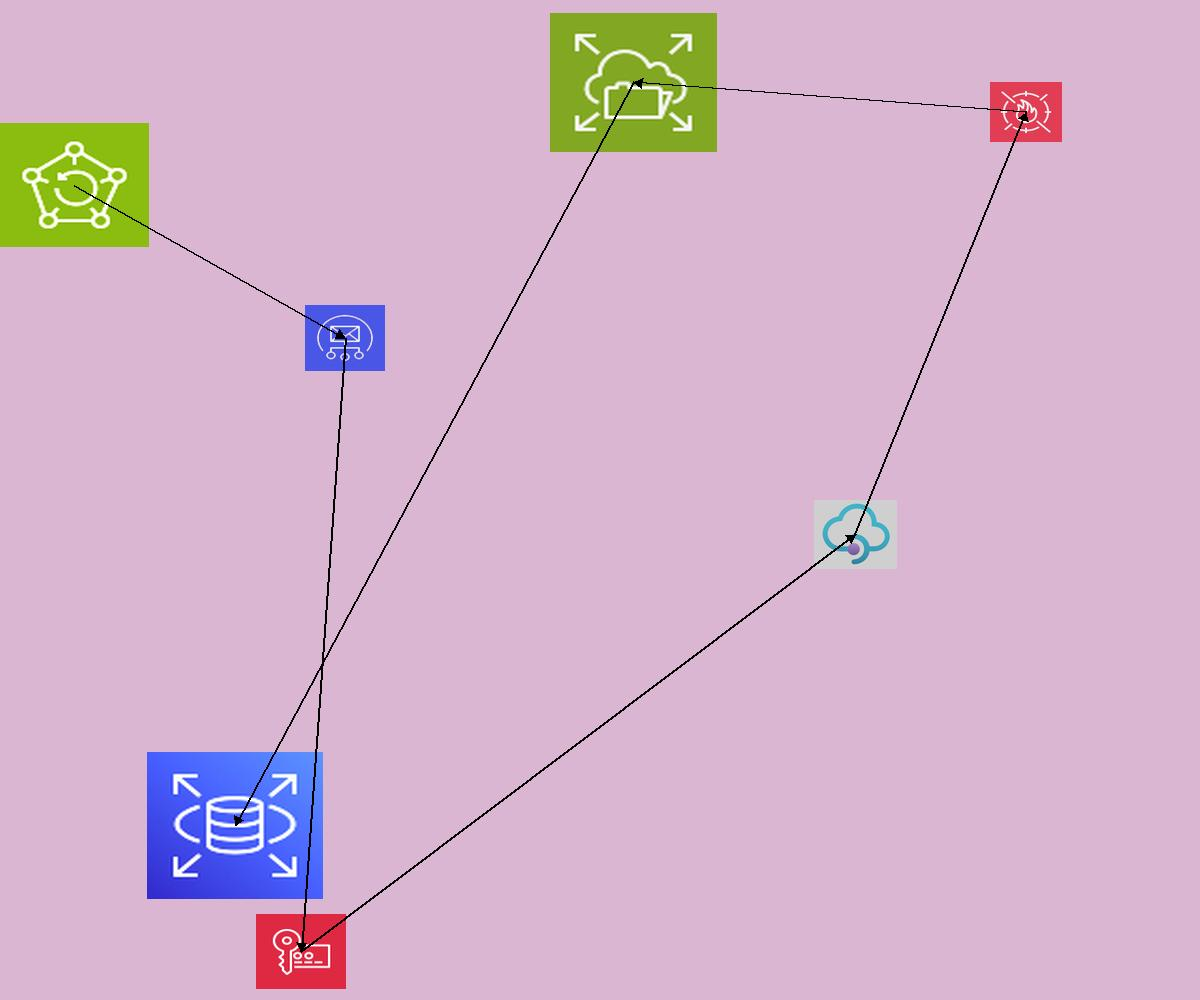AWS-Backup: (0, 123, 149, 247)
AWS-EFS: (550, 13, 717, 152)
AWS-Key-Management-Service: (256, 914, 346, 989)
AWS-RDS: (147, 752, 323, 899)
AWS-Simple-Email-Service: (305, 305, 385, 371)
AWS-WAF: (990, 82, 1062, 142)
Azure_api_gateway: (814, 500, 897, 569)
